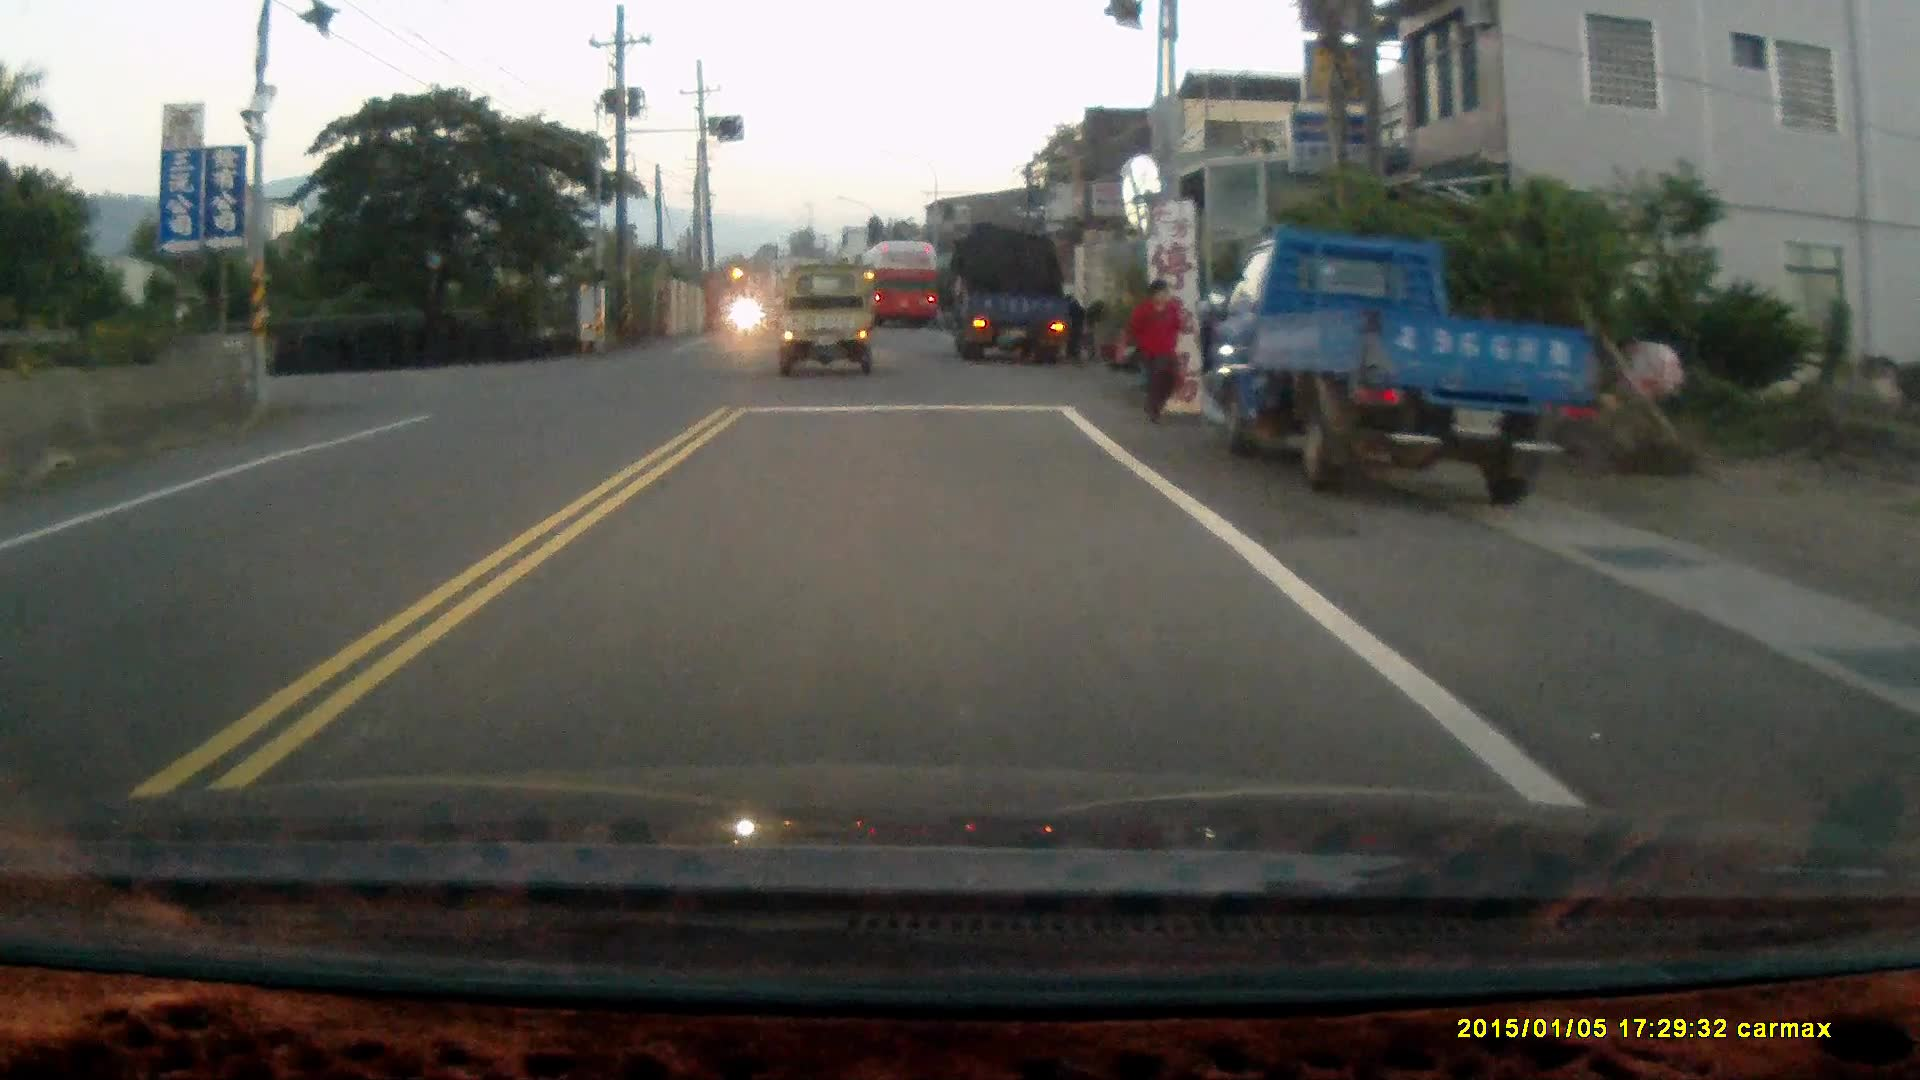pedestrian: (1126, 279, 1185, 429)
rider: (730, 283, 758, 341)
vehicle: (1212, 229, 1601, 506), (953, 228, 1082, 373), (782, 265, 882, 378), (864, 242, 953, 327)
